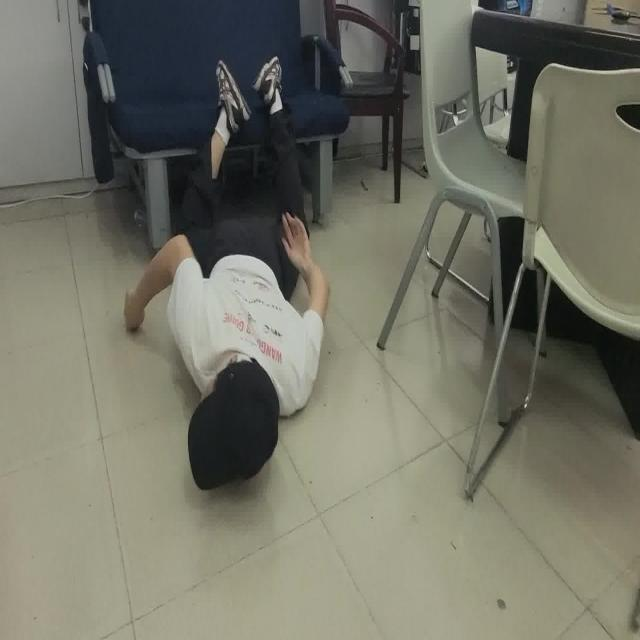Fall-Detected: (122, 53, 334, 498)
